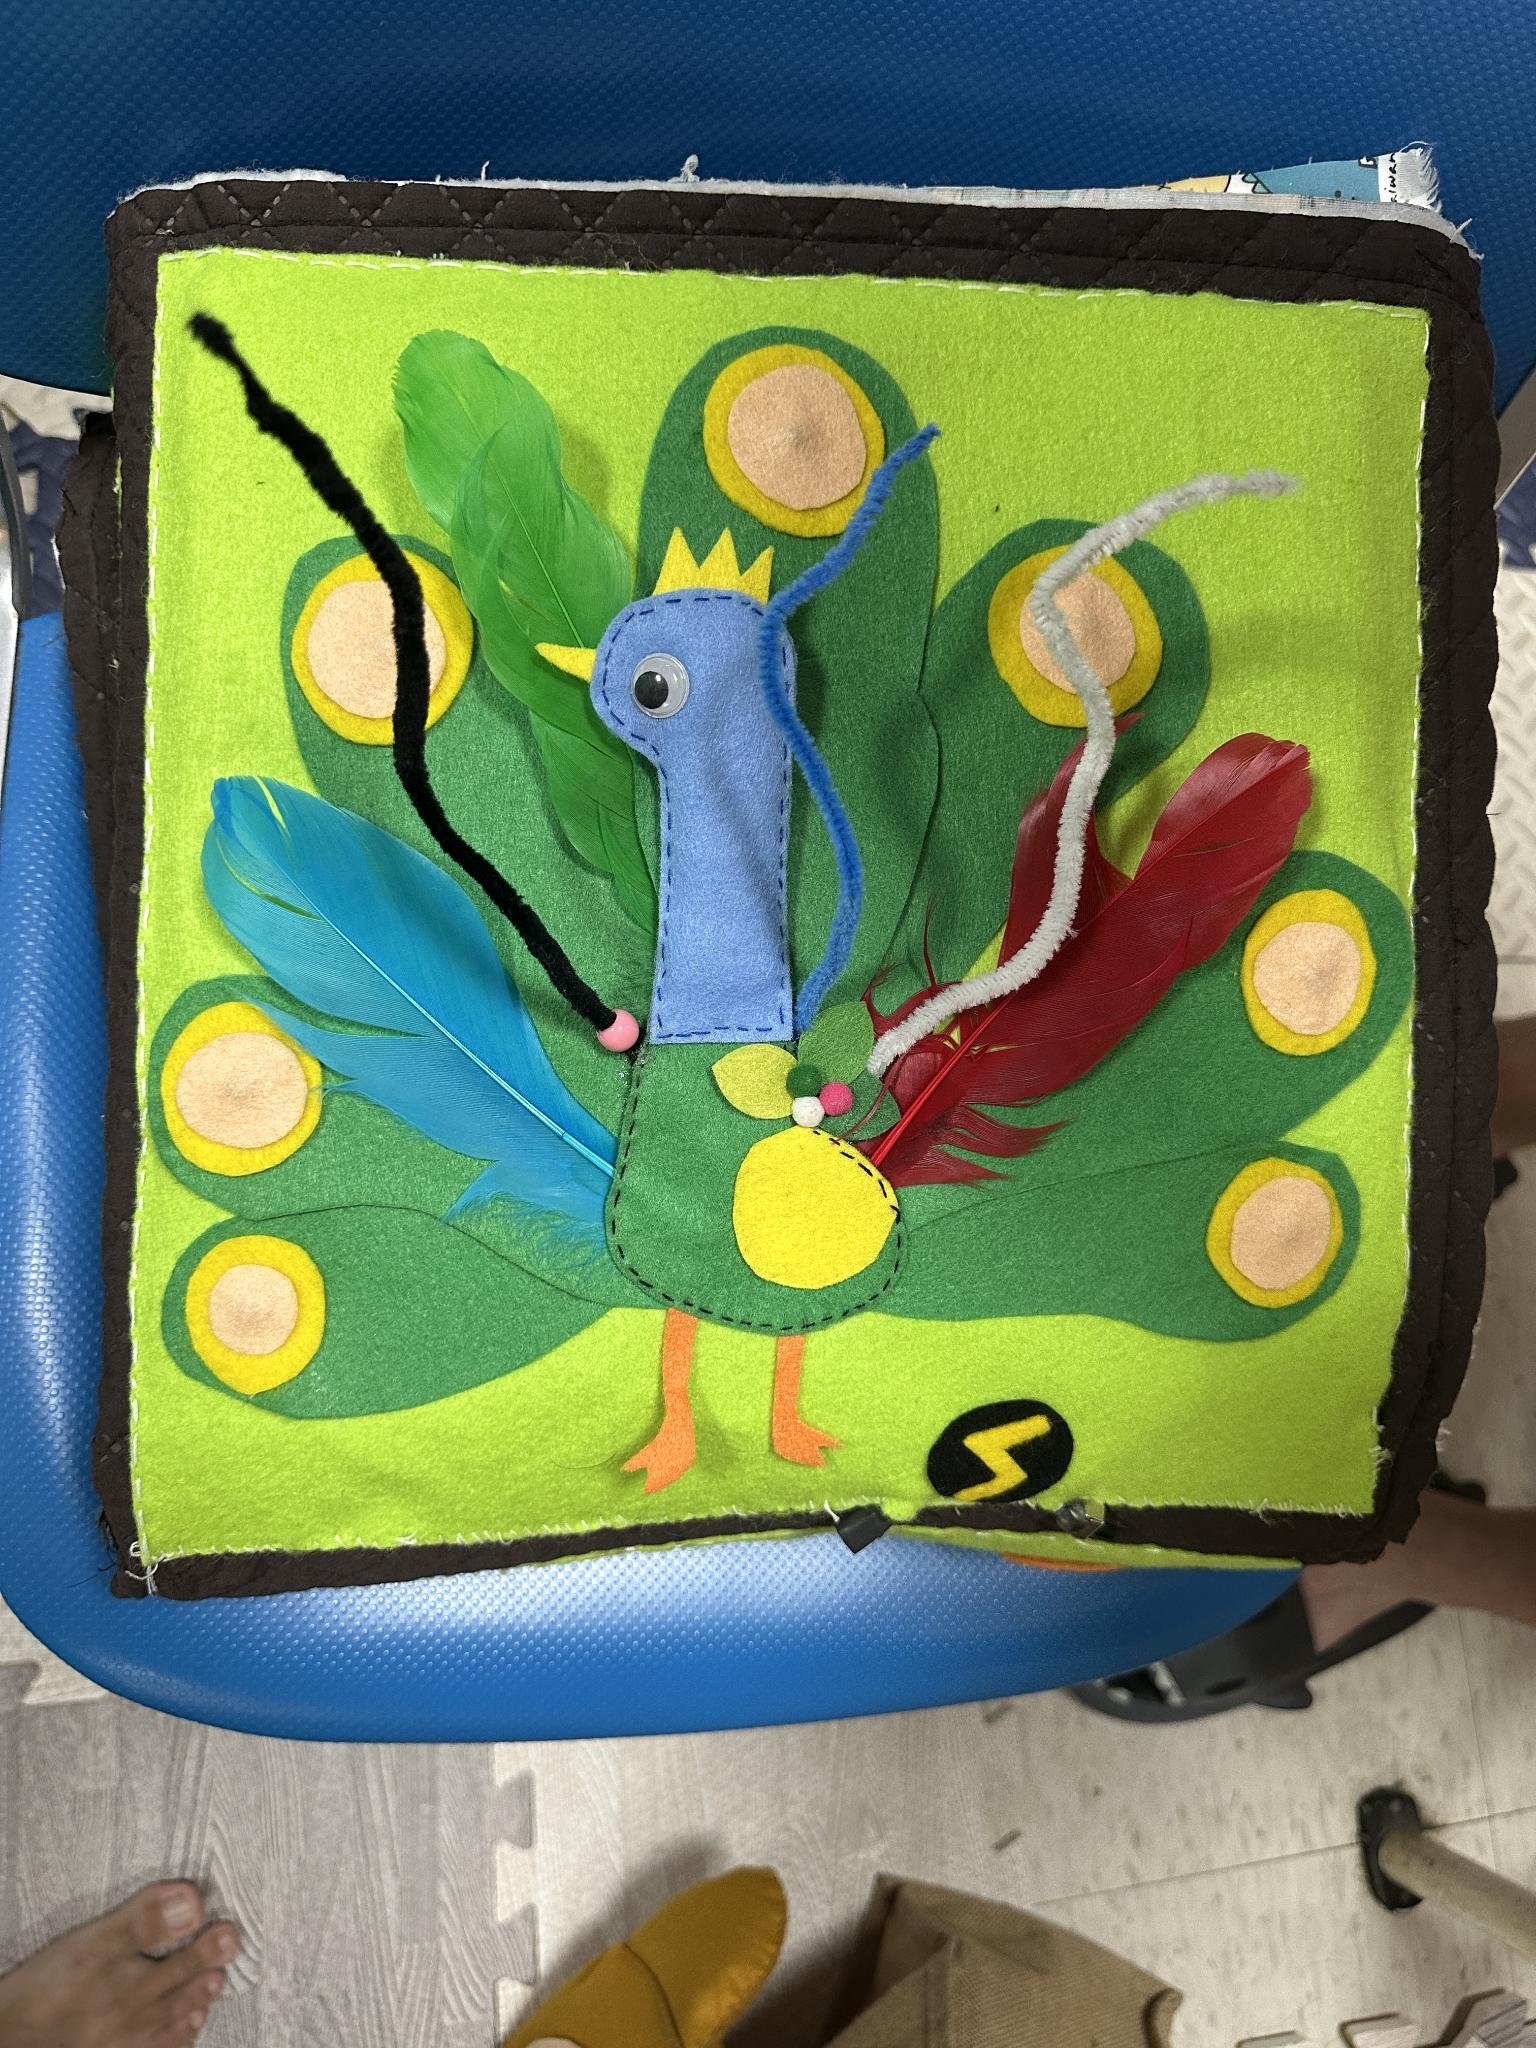bead: (584, 989, 655, 1076)
